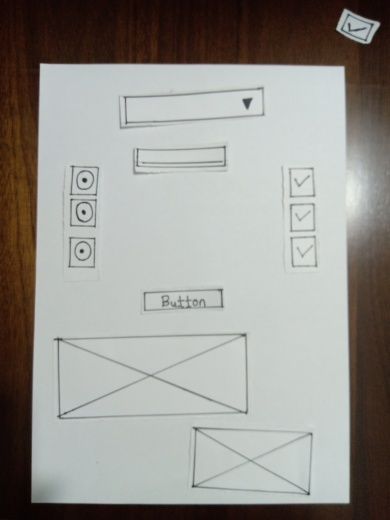button: (140, 290, 228, 307)
checkbox: (289, 166, 315, 196), (291, 236, 317, 266), (291, 201, 317, 231)
dropdown: (121, 90, 263, 123)
img: (58, 337, 244, 416), (190, 424, 313, 497)
radio: (68, 167, 97, 196), (69, 239, 98, 268), (69, 199, 98, 228)
text: (132, 148, 228, 171)
